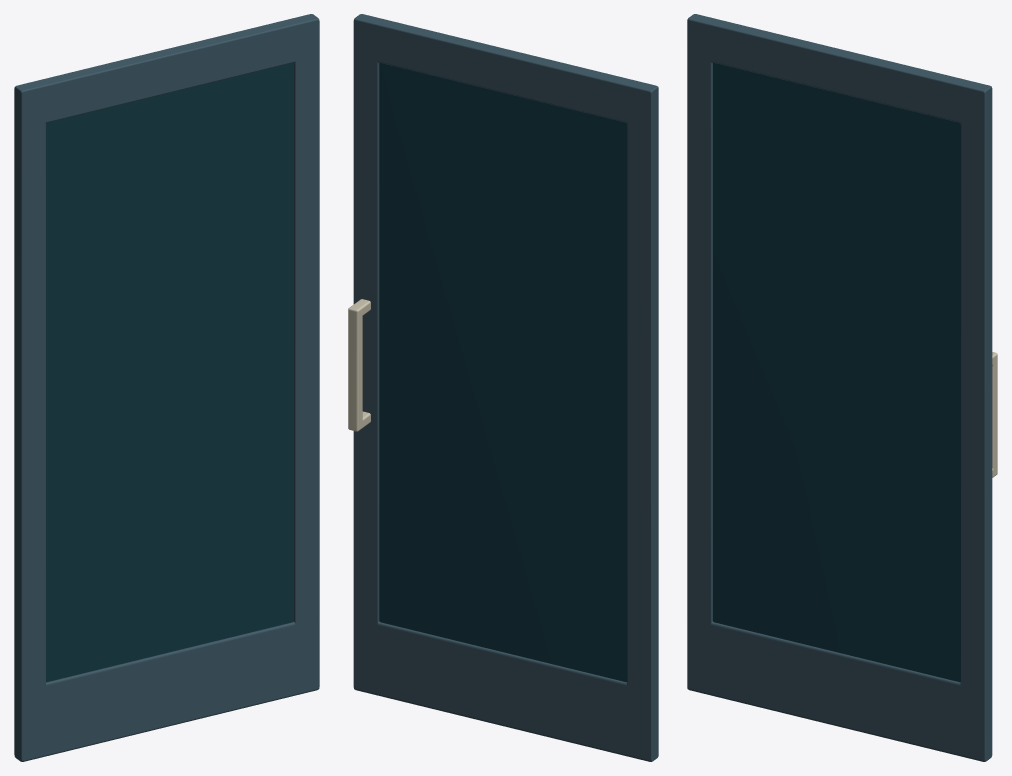
File: city_shop_fittings_06_single.glb
The picture shows the model from 3 angles, left to right: view 1: azimuth 30°, elevation 25°; view 2: azimuth 150°, elevation 25°; view 3: azimuth 330°, elevation 25°; orthographic projection.
Visible parts, largest first — view 1: single_leaf_1_glazing, single_leaf_1_stiles_rails; view 2: single_leaf_1_glazing, single_leaf_1_stiles_rails, single_leaf_1_static_pull; view 3: single_leaf_1_glazing, single_leaf_1_stiles_rails, single_leaf_1_static_pull.
Boxes of the visible parts, x1,y1,x2,y2 form: single_leaf_1_glazing: [46, 62, 293, 682]; single_leaf_1_stiles_rails: [14, 14, 319, 761]; single_leaf_1_glazing: [379, 62, 627, 682]; single_leaf_1_stiles_rails: [353, 14, 658, 761]; single_leaf_1_static_pull: [348, 299, 370, 431]; single_leaf_1_glazing: [713, 62, 960, 682]; single_leaf_1_stiles_rails: [687, 14, 992, 761]; single_leaf_1_static_pull: [992, 352, 997, 477].
Size of the model in its own units: 1.02 by 2.2 by 0.123.
